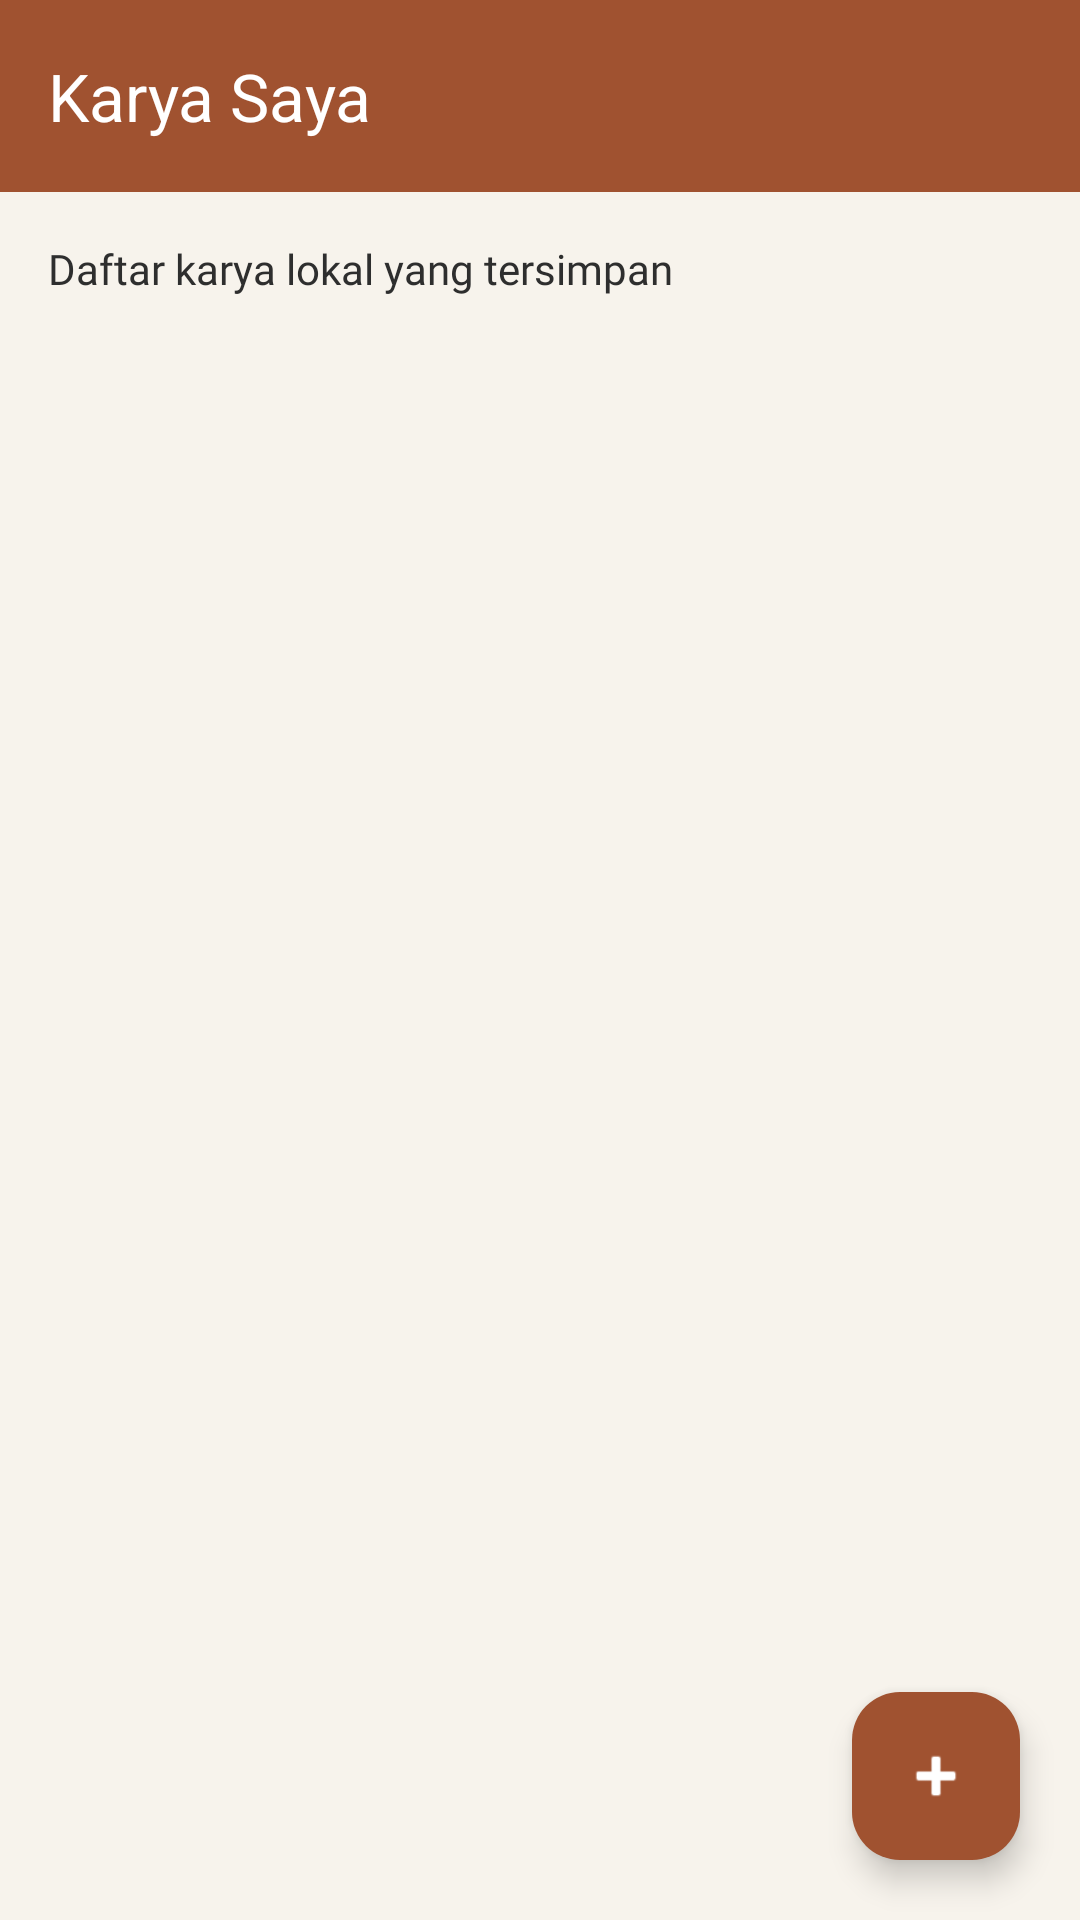

Named icons in this screenshot (1080*1920) and their centers, (x,y):
Tambah karya: (936,1776)
